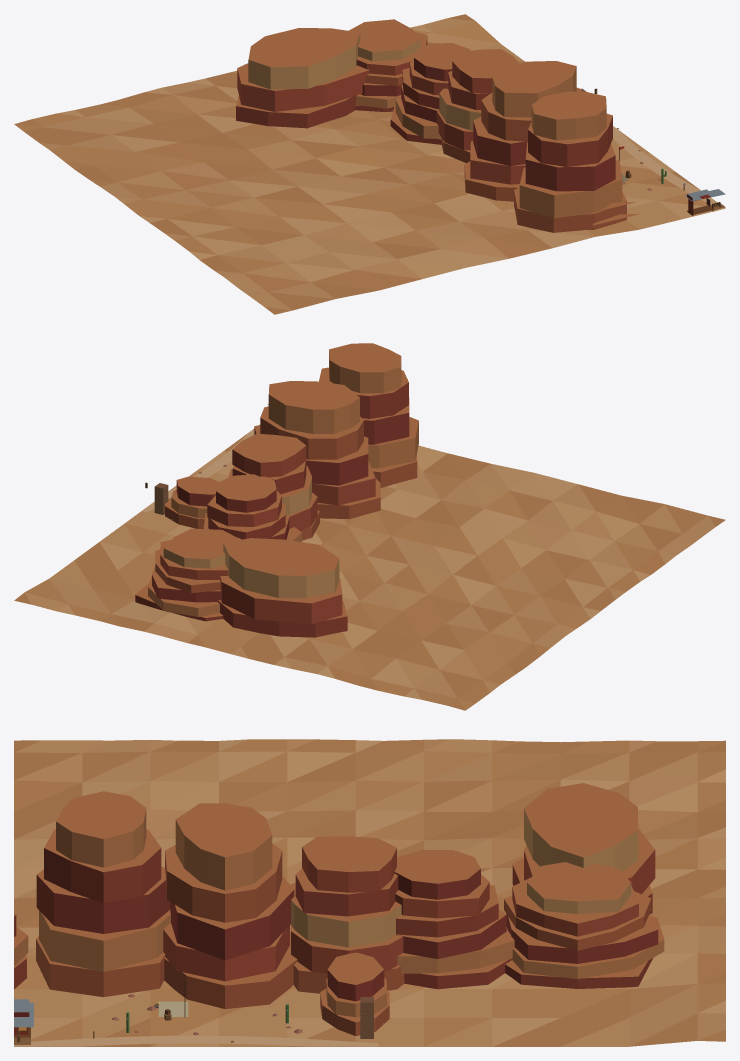
3 views of the same model, one above another, from view 1: azimuth 30°, elevation 25°; view 2: azimuth 150°, elevation 25°; view 3: azimuth 270°, elevation 25° (orthographic). The views are drawn at different scales.
Visible parts, largest first — view 1: baked; view 2: baked; view 3: baked.
Part boxes in pixels (left/top/right/bottom): baked: left=14, top=14, right=725, bottom=314; baked: left=14, top=343, right=725, bottom=710; baked: left=14, top=739, right=725, bottom=1046.
Bounding box in the file's own units: 125 × 28.97 × 125.
